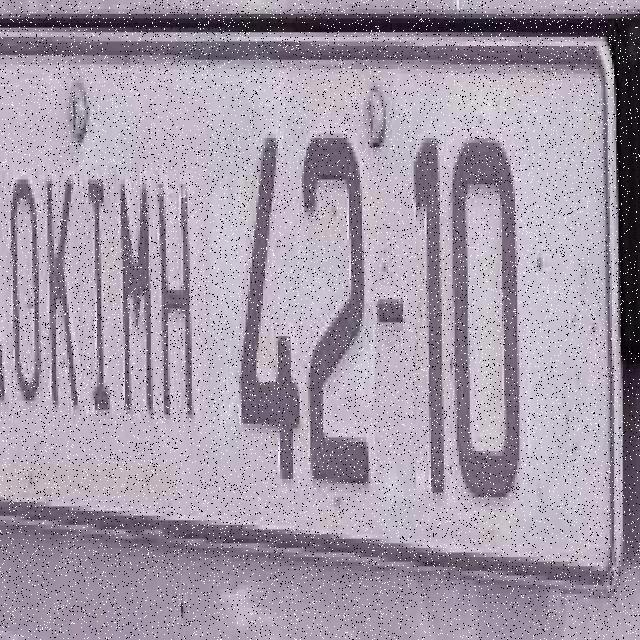LicensePlate: (213, 6, 634, 612)
